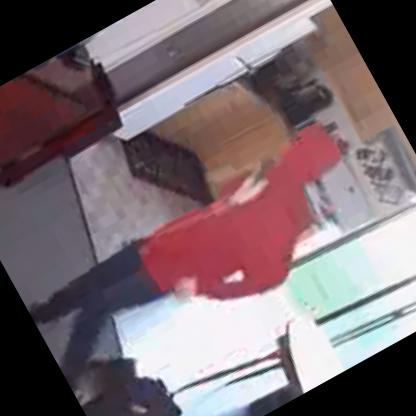Human Body: (10, 104, 392, 408)
